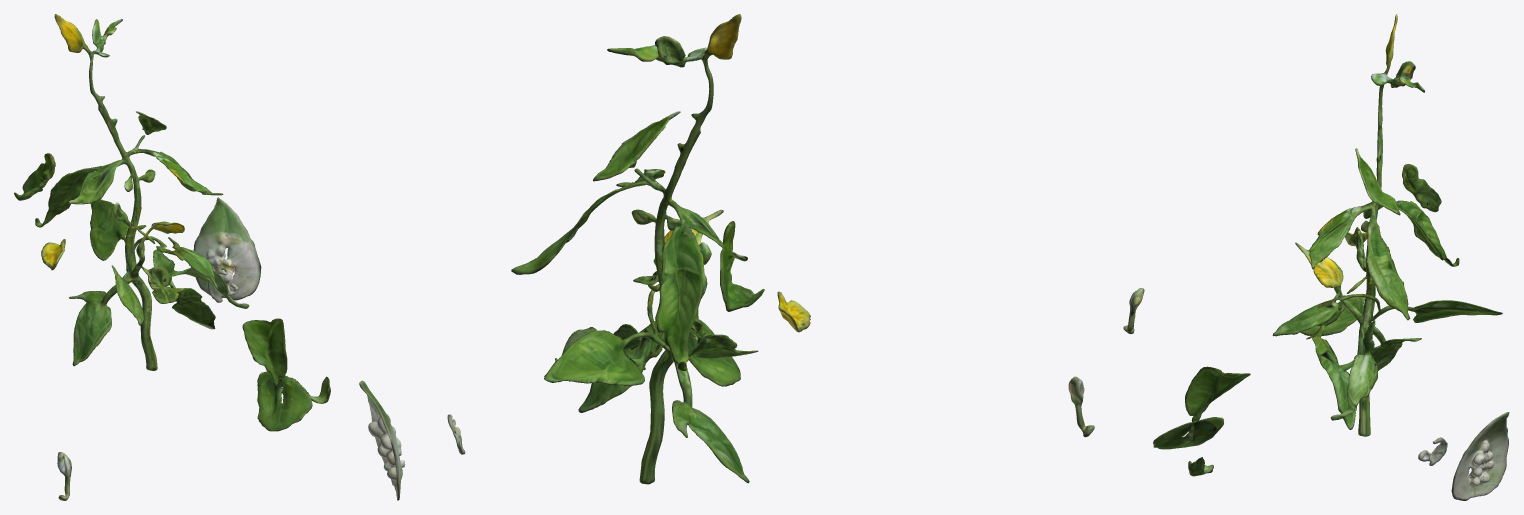
File: herb0013.gltf
The picture shows the model from 3 angles, left to right: view 1: azimuth 30°, elevation 25°; view 2: azimuth 150°, elevation 25°; view 3: azimuth 270°, elevation 25°; orthographic projection. The views are drawn at different scales.
Parts seen in each view (by area): view 1: Mesh_0.011; view 2: Mesh_0.011; view 3: Mesh_0.011.
Part boxes in pixels (x1,y1,x2,y2): Mesh_0.011: [14, 14, 330, 500]; Mesh_0.011: [359, 14, 1094, 500]; Mesh_0.011: [1123, 14, 1509, 500].
Size of the model in its own units: 2 by 1.96 by 1.8.
1 material, 1 textured.
